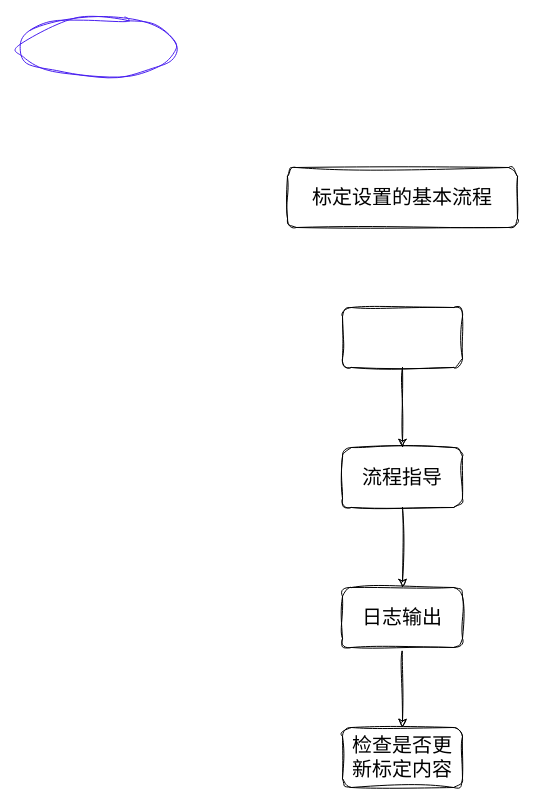
This 535x805 diagram has some shape labels left out. Here are the shapes that lost their labels. From the top down, the centre of each, then its label:
[97,47]: 1:Getting Start
[402,337]: 参数选项
